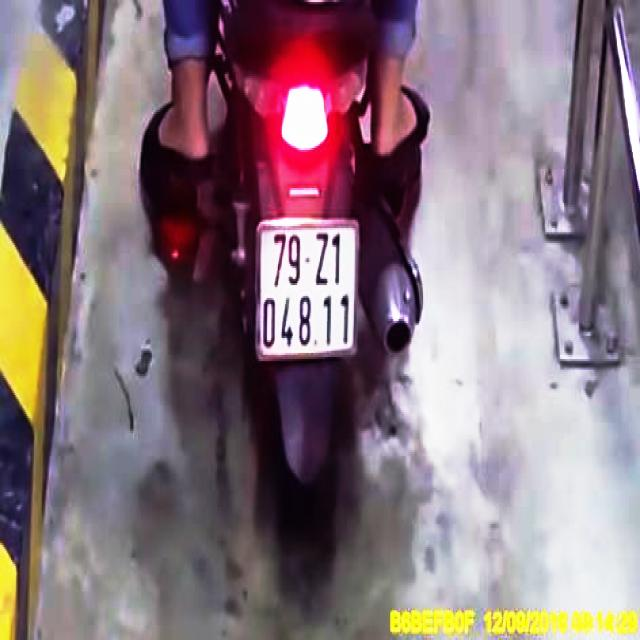license_plate: (258, 217, 361, 356)
